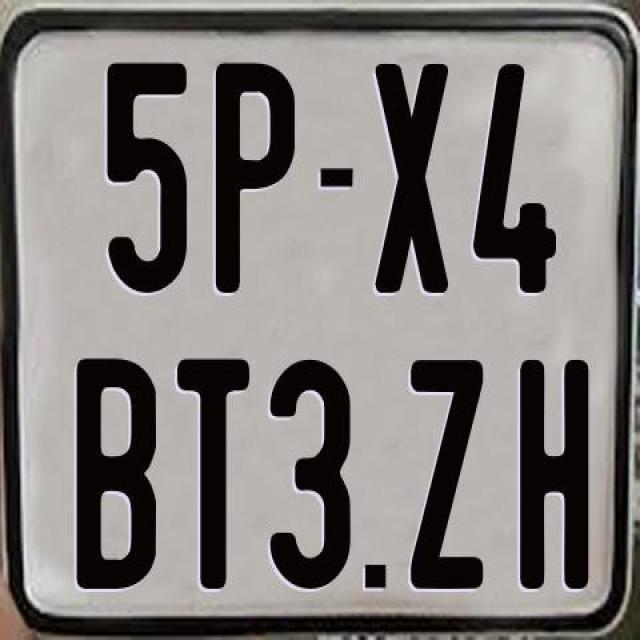3: (270, 360, 350, 597)
4: (469, 64, 552, 299)
5: (106, 59, 194, 298)
B: (73, 358, 152, 594)
H: (518, 358, 590, 597)
P: (212, 59, 296, 299)
T: (178, 358, 258, 596)
X: (374, 63, 449, 294)
Z: (408, 360, 484, 597)
